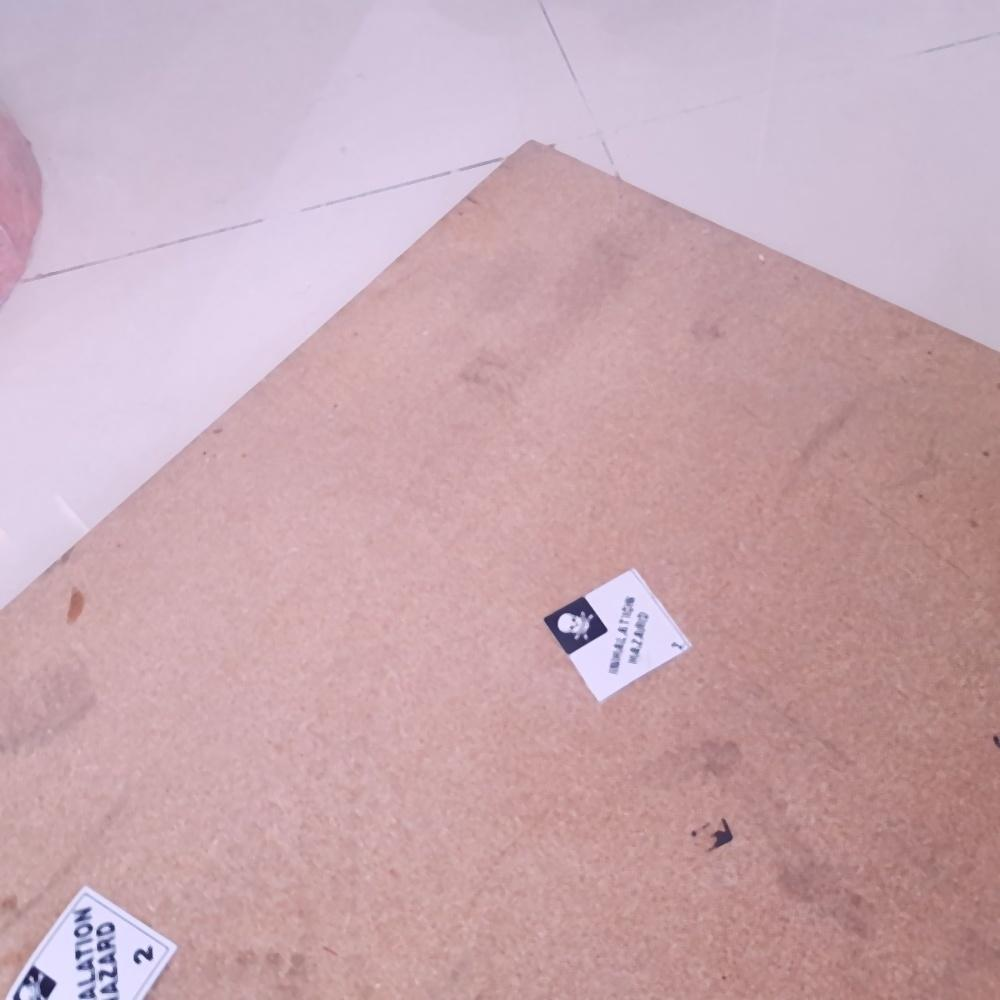poison: (542, 567, 693, 703), (7, 884, 180, 1000)
